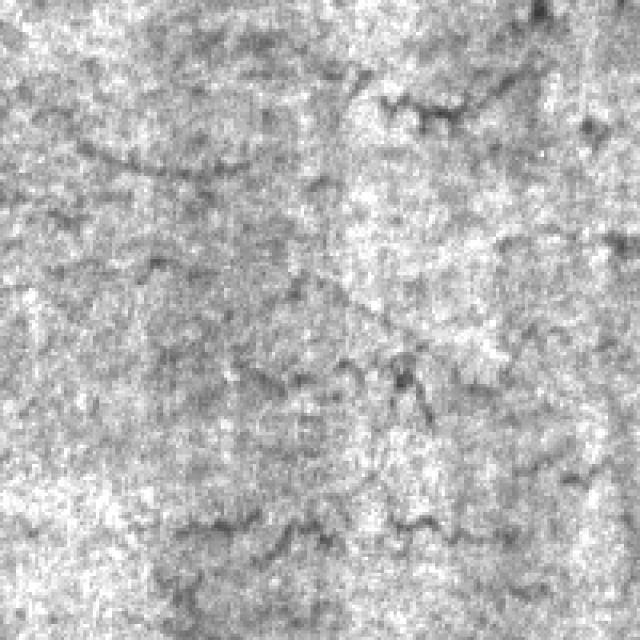crazing: (224, 266, 637, 547), (147, 445, 637, 637), (35, 4, 560, 182)
